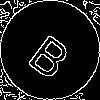B: (25, 25, 80, 82)
